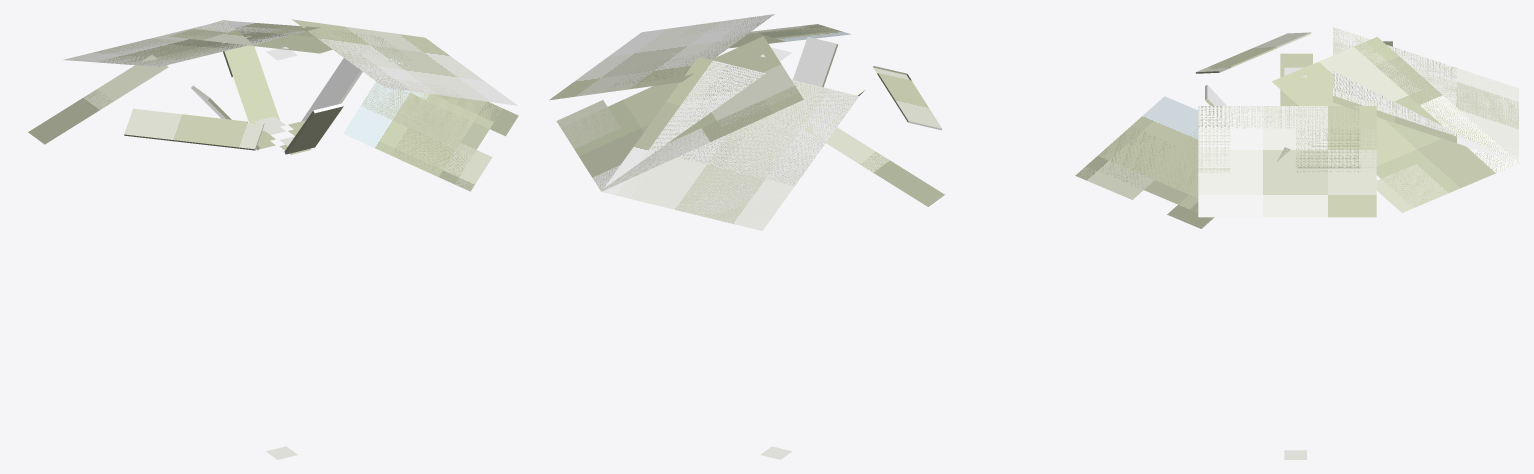
File: mushroom_umbrella.obj
The picture shows the model from 3 angles, left to right: view 1: azimuth 30°, elevation 25°; view 2: azimuth 150°, elevation 25°; view 3: azimuth 270°, elevation 25°; orthographic projection. The views are drawn at different scales.
Visible parts, largest first — view 1: cube; view 2: cube; view 3: cube.
Part boxes in pixels (x1=…): cube: x1=28, y1=19, x2=518, y2=459; cube: x1=549, y1=14, x2=944, y2=459; cube: x1=1075, y1=27, x2=1519, y2=459.
Size of the model in its own units: 1.72 by 1.67 by 1.72.
